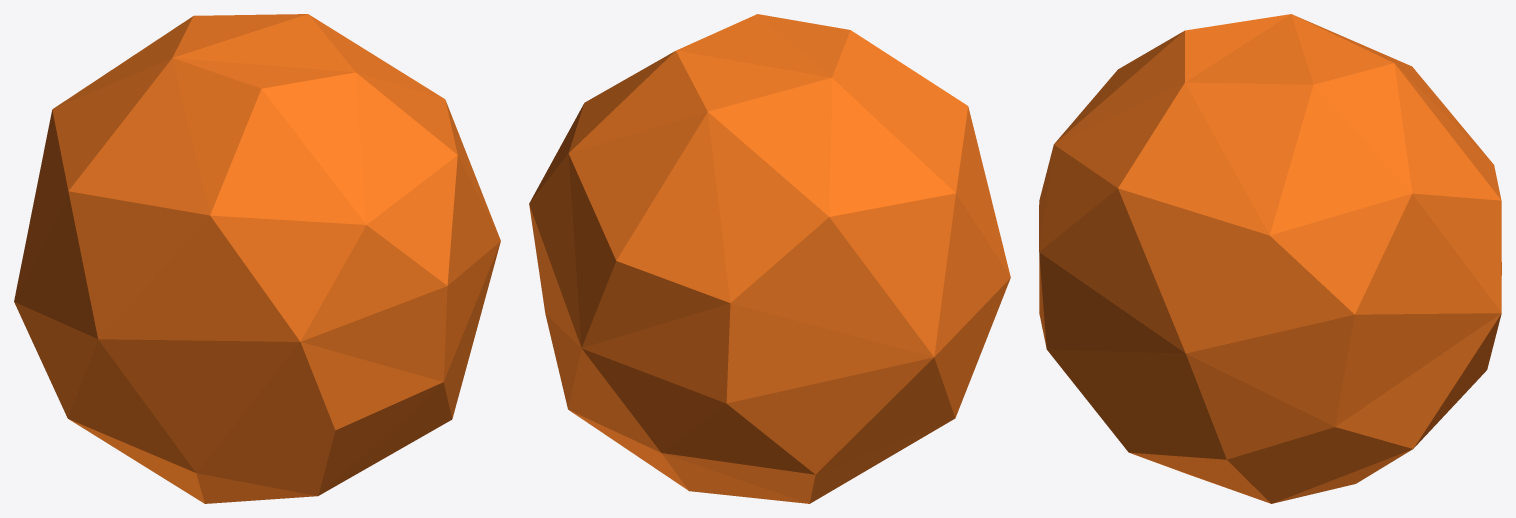
Rendered from shrub-round_orange.glb.
The picture shows the model from 3 angles, left to right: view 1: azimuth 30°, elevation 25°; view 2: azimuth 150°, elevation 25°; view 3: azimuth 270°, elevation 25°; orthographic projection.
Visible parts, largest first — view 1: shrub-round_orange; view 2: shrub-round_orange; view 3: shrub-round_orange.
Part boxes in pixels (<box>): shrub-round_orange: <box>14,14,500,503</box>; shrub-round_orange: <box>529,14,1010,503</box>; shrub-round_orange: <box>1039,14,1501,503</box>.
Size of the model in its own units: 1.46 by 1.46 by 1.47.
Materials: 1 (1 with a texture image).
